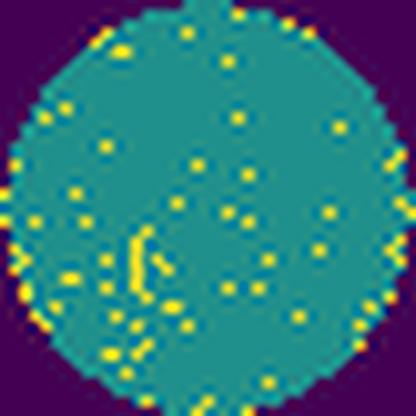Scratch: (126, 221, 157, 310)
